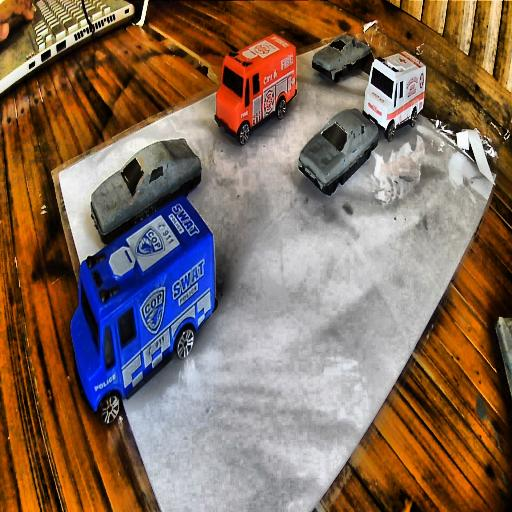ambulance: (362, 50, 427, 142)
fire_truck: (212, 33, 294, 146)
normal_car: (89, 139, 201, 247), (299, 106, 379, 196), (312, 32, 372, 84)
police car: (68, 191, 218, 421)
